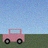vehicle: (3, 29, 24, 44)
